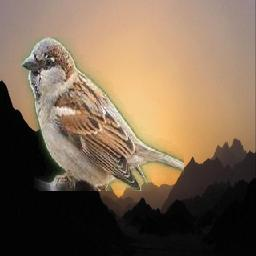Sparrow: (22, 37, 185, 191)
